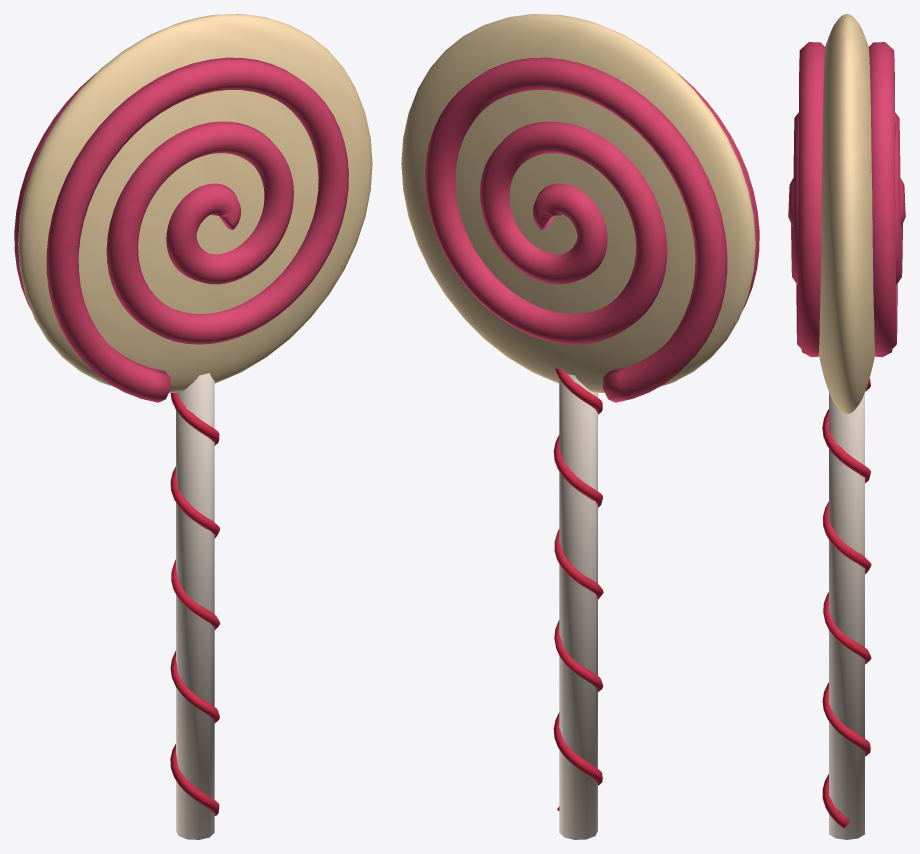
The model's file is lollipop-tree.glb.
3 views of the same model, side by side, from view 1: azimuth 30°, elevation 25°; view 2: azimuth 150°, elevation 25°; view 3: azimuth 270°, elevation 25° (orthographic).
Visible parts, largest first — view 1: Solid candy disc, Raised strawberry spiral.001, Vanilla stick, Ribbon round stick, Raised strawberry spiral; view 2: Solid candy disc, Raised strawberry spiral, Vanilla stick, Ribbon round stick, Raised strawberry spiral.001; view 3: Solid candy disc, Vanilla stick, Raised strawberry spiral, Raised strawberry spiral.001, Ribbon round stick.
Part boxes in pixels (x1,y1,x2,y2): Solid candy disc: [18, 14, 372, 392]; Raised strawberry spiral.001: [46, 57, 348, 402]; Vanilla stick: [176, 373, 214, 839]; Ribbon round stick: [170, 392, 220, 815]; Raised strawberry spiral: [14, 73, 95, 310]; Solid candy disc: [401, 14, 755, 392]; Raised strawberry spiral: [425, 57, 727, 402]; Vanilla stick: [559, 373, 597, 839]; Ribbon round stick: [553, 368, 603, 811]; Raised strawberry spiral.001: [678, 73, 759, 310]; Solid candy disc: [818, 14, 875, 414]; Vanilla stick: [829, 392, 864, 839]; Raised strawberry spiral: [869, 42, 905, 357]; Raised strawberry spiral.001: [788, 42, 824, 357]; Ribbon round stick: [822, 378, 871, 828].
Size of the model in its own units: 2.32 by 5.11 by 0.6837.
